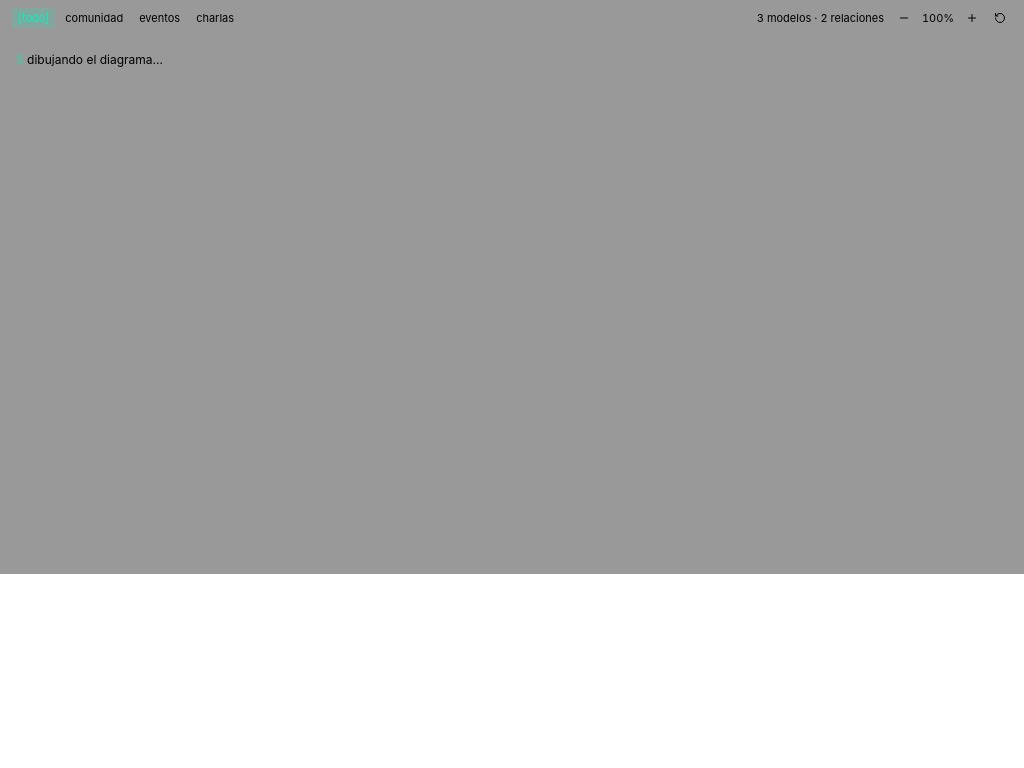
DbDiagram › drops a render that resolves after the view changed
Click the tab "comunidad" at (94,18), box [59,8,129,28]
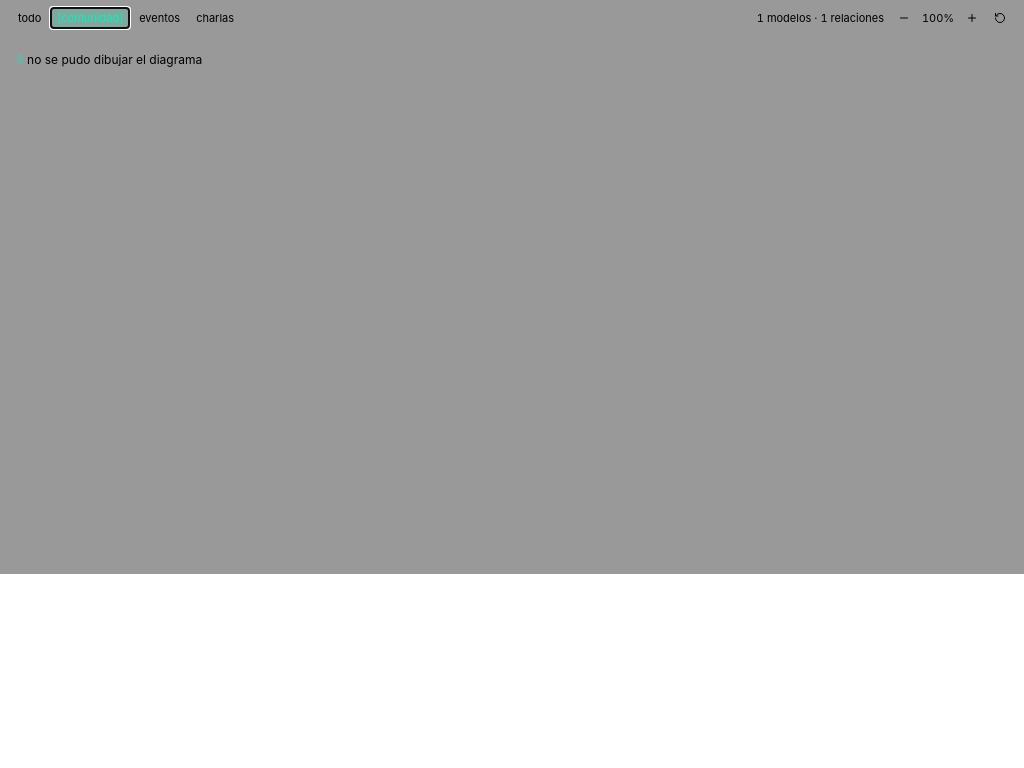
Now the text "no se pudo dibujar el diagrama" is shown, box [27,52,202,67]
